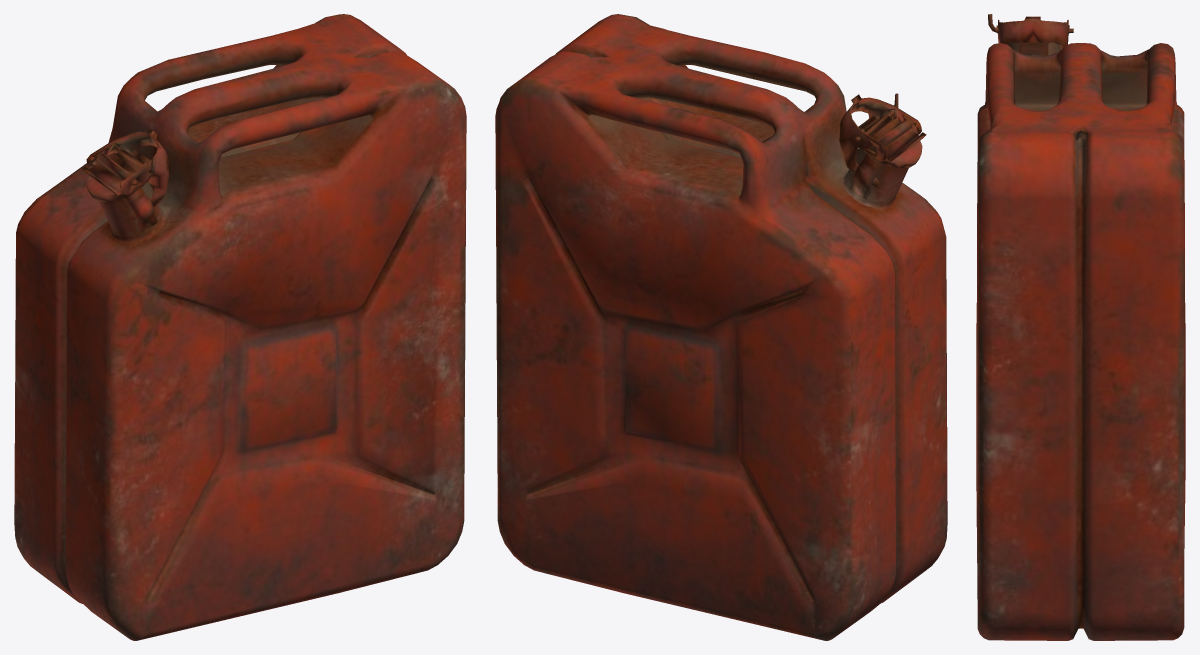
File: metal_jerrycan.glb
The picture shows the model from 3 angles, left to right: view 1: azimuth 30°, elevation 25°; view 2: azimuth 150°, elevation 25°; view 3: azimuth 270°, elevation 25°; orthographic projection. The views are drawn at different scales.
Visible parts, largest first — view 1: metal_jerrycan; view 2: metal_jerrycan; view 3: metal_jerrycan.
Boxes of the visible parts, box(x1,y1,x2,y2) form: metal_jerrycan: box(14, 14, 466, 640); metal_jerrycan: box(495, 14, 947, 640); metal_jerrycan: box(976, 14, 1185, 640).
Bounding box in the file's own units: 0.35 × 0.4548 × 0.1717.
Materials: 1 (1 with a texture image).
